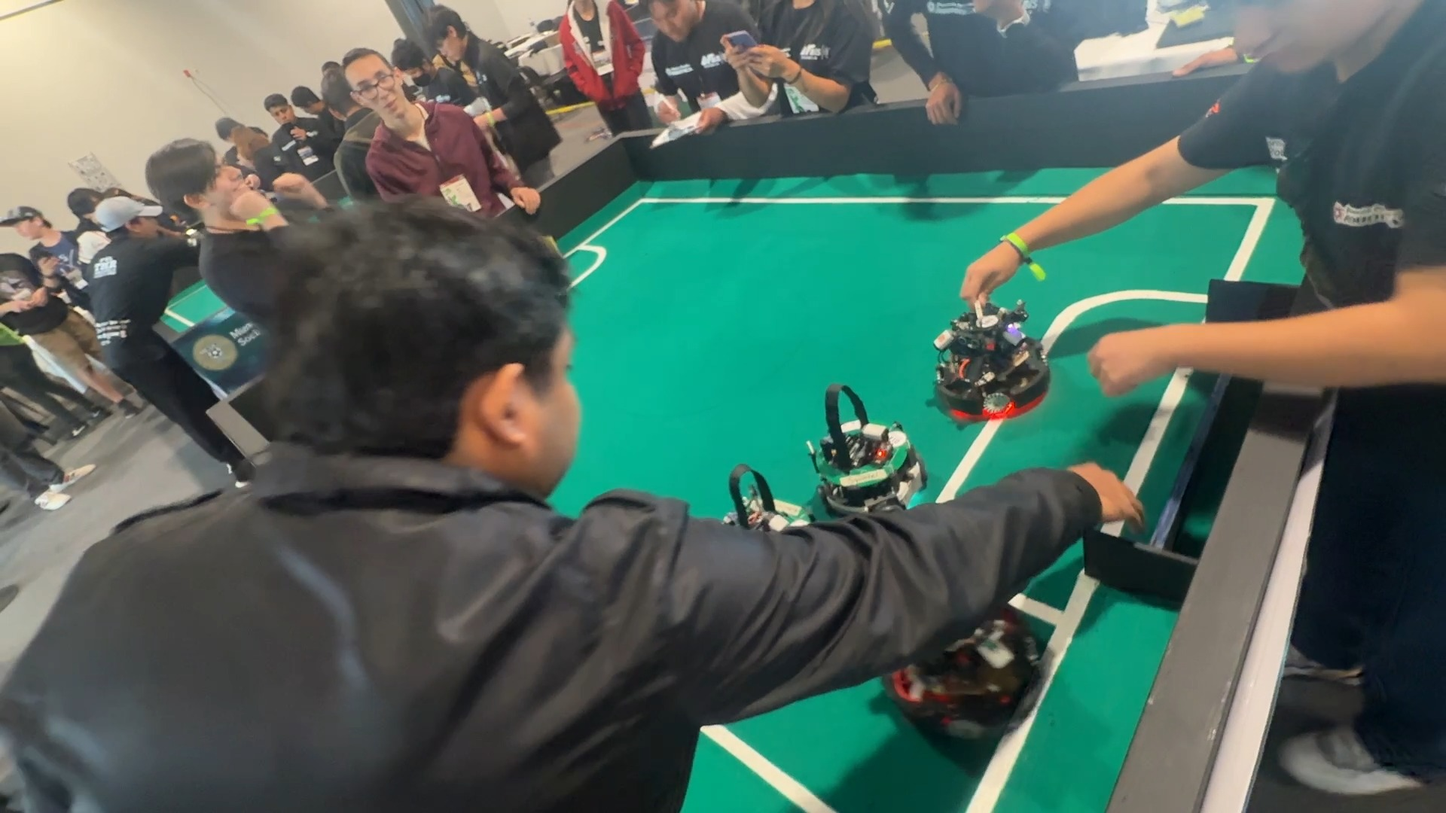Robot: (773, 379, 936, 516), (928, 296, 1056, 431)
